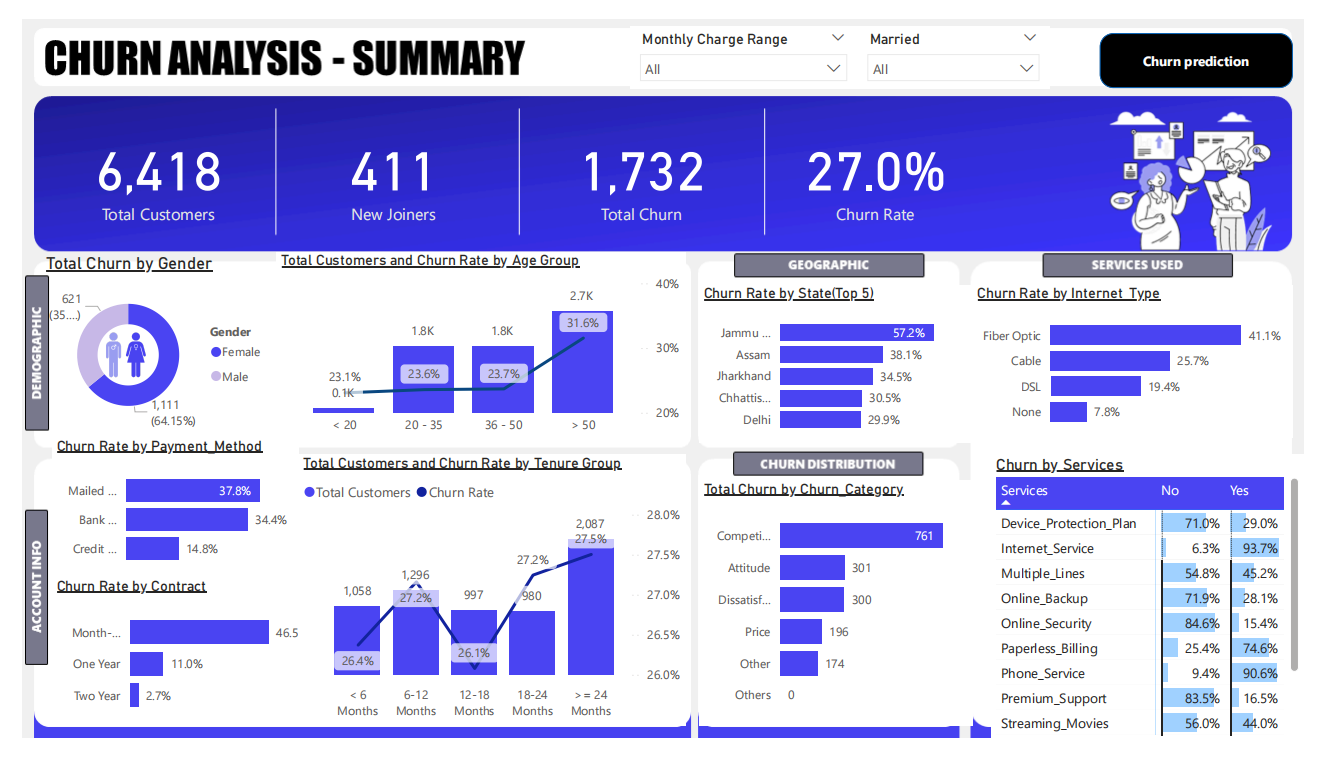

Layout of this report page (visuals, bound fields, positions):
{"tool":"powerbi","page":{"name":"Summary","canvas":[1280,720],"ordinal":0},"visuals":[{"type":"donutChart","fields":{"Category":["prod_Churn.Gender"],"Y":["tbl_Measures.Total Churn"]},"box":[18.9,233.9,235.2,183.9],"z":0},{"type":"card","fields":{"Values":["tbl_Measures.Total Customers"]},"box":[18.9,83.8,235.2,144.7],"z":1000},{"type":"card","fields":{"Values":["tbl_Measures.New Joiners"]},"box":[254.2,83.8,233.9,144.7],"z":2000},{"type":"card","fields":{"Values":["tbl_Measures.Churn Rate"]},"box":[755.7,83.8,193.3,144.7],"z":3000},{"type":"card","fields":{"Values":["tbl_Measures.Total Churn"]},"box":[500.2,83.8,237.9,144.7],"z":4000},{"type":"clusteredBarChart","fields":{"Category":["prod_Churn.Payment_Method"],"Y":["tbl_Measures.Churn Rate"]},"box":[29.7,417.7,246.1,140.6],"z":5000},{"type":"clusteredBarChart","fields":{"Category":["prod_Churn.Contract"],"Y":["tbl_Measures.Churn Rate"]},"box":[29.7,558.3,260.9,147.4],"z":6000},{"type":"lineStackedColumnComboChart","fields":{"Category":["mapping_AgeGrp.Age Group"],"Y":["tbl_Measures.Total Customers"],"Y2":["tbl_Measures.Churn Rate"]},"box":[254.2,232.5,408.3,190.6],"z":7000},{"type":"lineStackedColumnComboChart","fields":{"Category":["mapping_TenureGrp.Tenure Group"],"Y":["tbl_Measures.Total Customers"],"Y2":["tbl_Measures.Churn Rate"]},"box":[275.8,435.3,386.7,270.4],"z":8000},{"type":"clusteredBarChart","title":"Churn Rate by State(Top 5)","fields":{"Category":["prod_Churn.State"],"Y":["tbl_Measures.Churn Rate"]},"box":[676,266.3,273.1,156.8],"z":9000},{"type":"clusteredBarChart","fields":{"Category":["prod_Churn.Churn_Category"],"Y":["tbl_Measures.Total Churn"]},"box":[676,461,273.1,244.7],"z":10000},{"type":"clusteredBarChart","fields":{"Category":["prod_Churn.Internet_Type"],"Y":["tbl_Measures.Churn Rate"]},"box":[949.1,266.3,320.4,151.4],"z":11000},{"type":"pivotTable","title":"Churn by Services","fields":{"Rows":["prod_Services.Services"],"Columns":["prod_Services.Status"],"Values":["Sum(prod_Services.Churn Status)"]},"box":[968,435.3,312.3,285.3],"z":12000},{"type":"slicer","fields":{"Values":["prod_Services.Monthly Charge Range"]},"box":[607,6.8,227.1,62.2],"z":13000},{"type":"slicer","fields":{"Values":["prod_Services.Married"]},"box":[834.1,6.8,192,62.2],"z":14000},{"type":"image","box":[70.3,297.4,66.2,74.4],"z":16000},{"type":"shape","box":[1076.1,13.5,193.3,55.4],"z":16001}]}

Visuals, with their boxes in screenshot pixels (x1, y1, x2, y2), scaled from the page's 1280x720 canvas onto the 1328x763 screenshot:
donutChart - prod_Churn.Gender x tbl_Measures.Total Churn: crop(20, 248, 264, 443)
card - tbl_Measures.Total Customers: crop(20, 89, 264, 242)
card - tbl_Measures.New Joiners: crop(264, 89, 506, 242)
card - tbl_Measures.Churn Rate: crop(784, 89, 985, 242)
card - tbl_Measures.Total Churn: crop(519, 89, 766, 242)
clusteredBarChart - prod_Churn.Payment_Method x tbl_Measures.Churn Rate: crop(31, 443, 286, 592)
clusteredBarChart - prod_Churn.Contract x tbl_Measures.Churn Rate: crop(31, 592, 301, 748)
lineStackedColumnComboChart - mapping_AgeGrp.Age Group x tbl_Measures.Total Customers: crop(264, 246, 687, 448)
lineStackedColumnComboChart - mapping_TenureGrp.Tenure Group x tbl_Measures.Total Customers: crop(286, 461, 687, 748)
"Churn Rate by State(Top 5)" clusteredBarChart: crop(701, 282, 985, 448)
clusteredBarChart - prod_Churn.Churn_Category x tbl_Measures.Total Churn: crop(701, 489, 985, 748)
clusteredBarChart - prod_Churn.Internet_Type x tbl_Measures.Churn Rate: crop(985, 282, 1317, 443)
"Churn by Services" pivotTable: crop(1004, 461, 1327, 762)
slicer - prod_Services.Monthly Charge Range: crop(630, 7, 865, 73)
slicer - prod_Services.Married: crop(865, 7, 1065, 73)
image: crop(73, 315, 142, 394)
shape: crop(1116, 14, 1317, 73)
